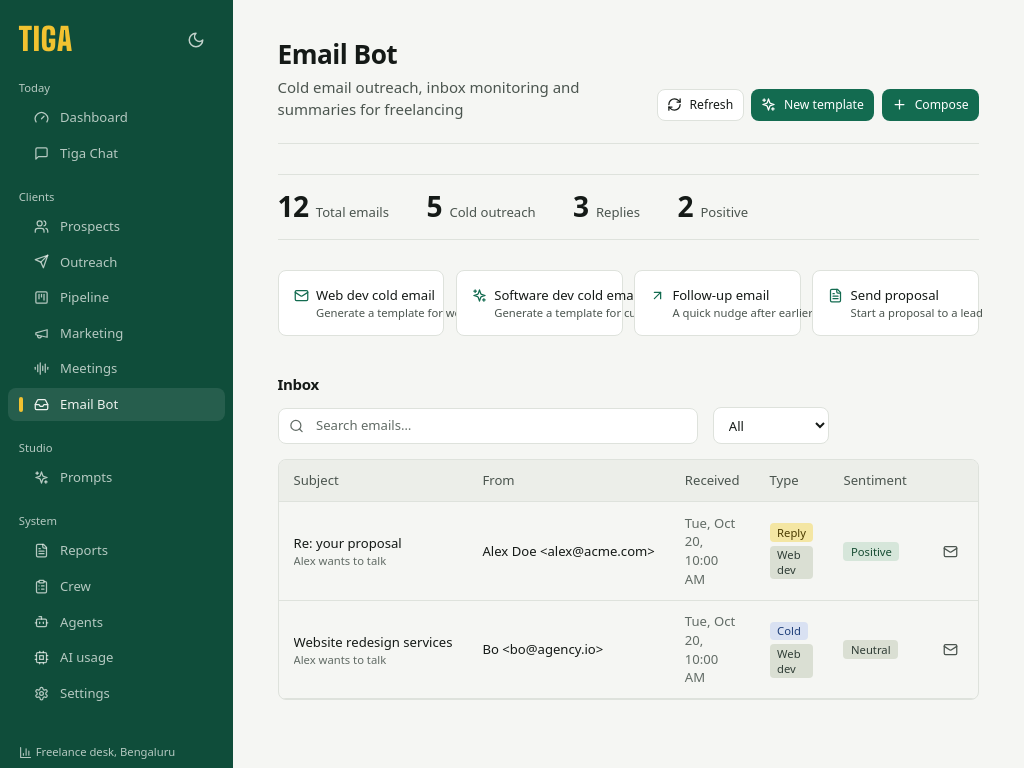
it: EmailBot inbox › filters by type
Expected: the button "Re: your proposal" is shown, x1=294 y1=534 x2=402 y2=553
Select "Cold emails" in the dropdown named "show" at (771, 426), box x1=712 y1=407 x2=829 y2=444
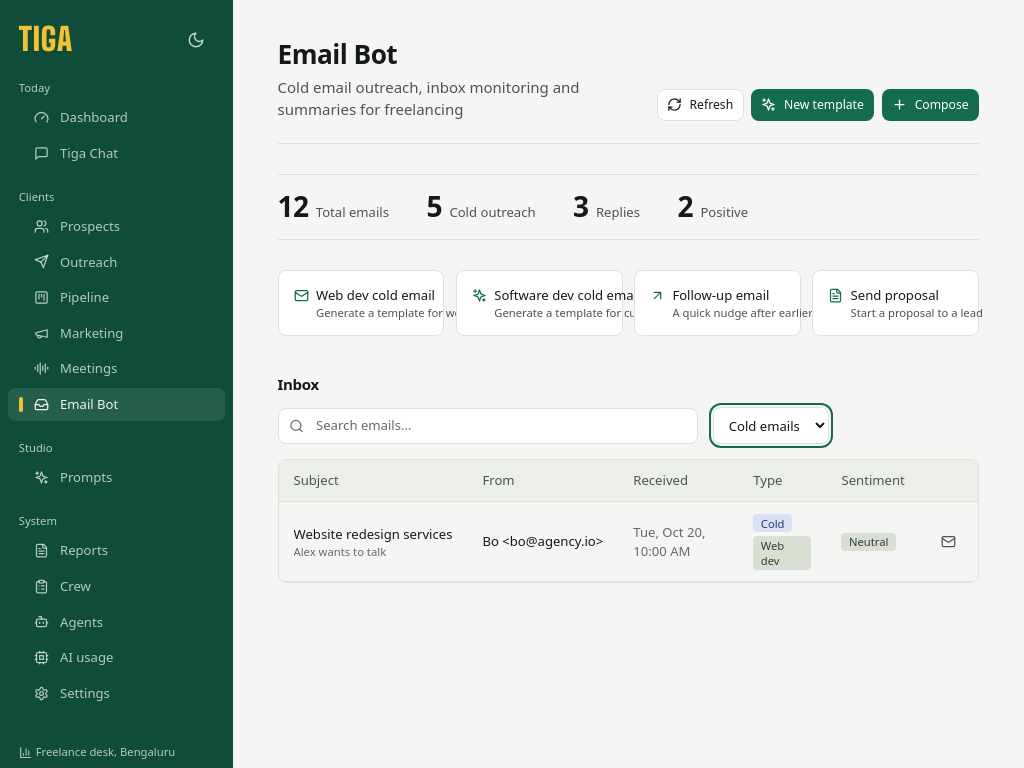
Expected: the button "Website redesign services" is shown, x1=294 y1=525 x2=452 y2=544
Result: the button "Re: your proposal" is gone
